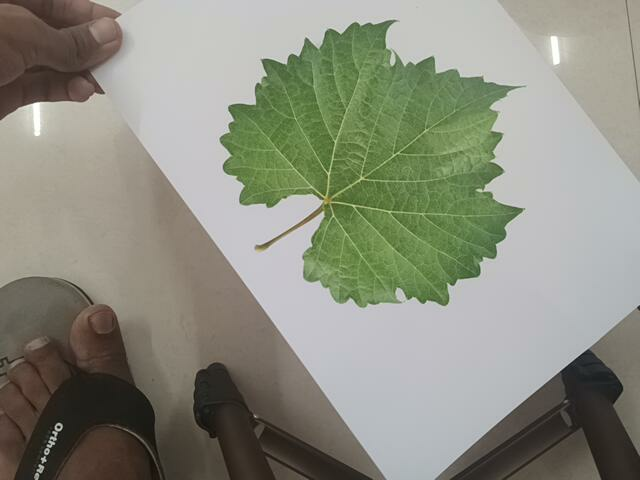Grape_Healthy: (221, 19, 526, 299)
